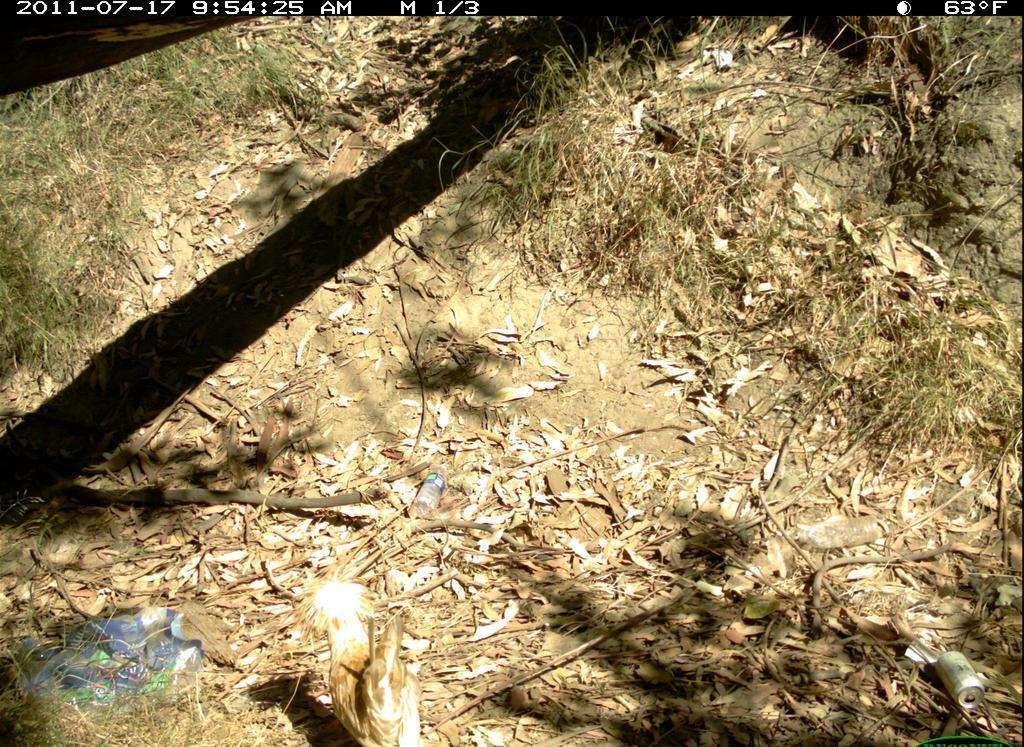bird: (287, 550, 432, 747)
